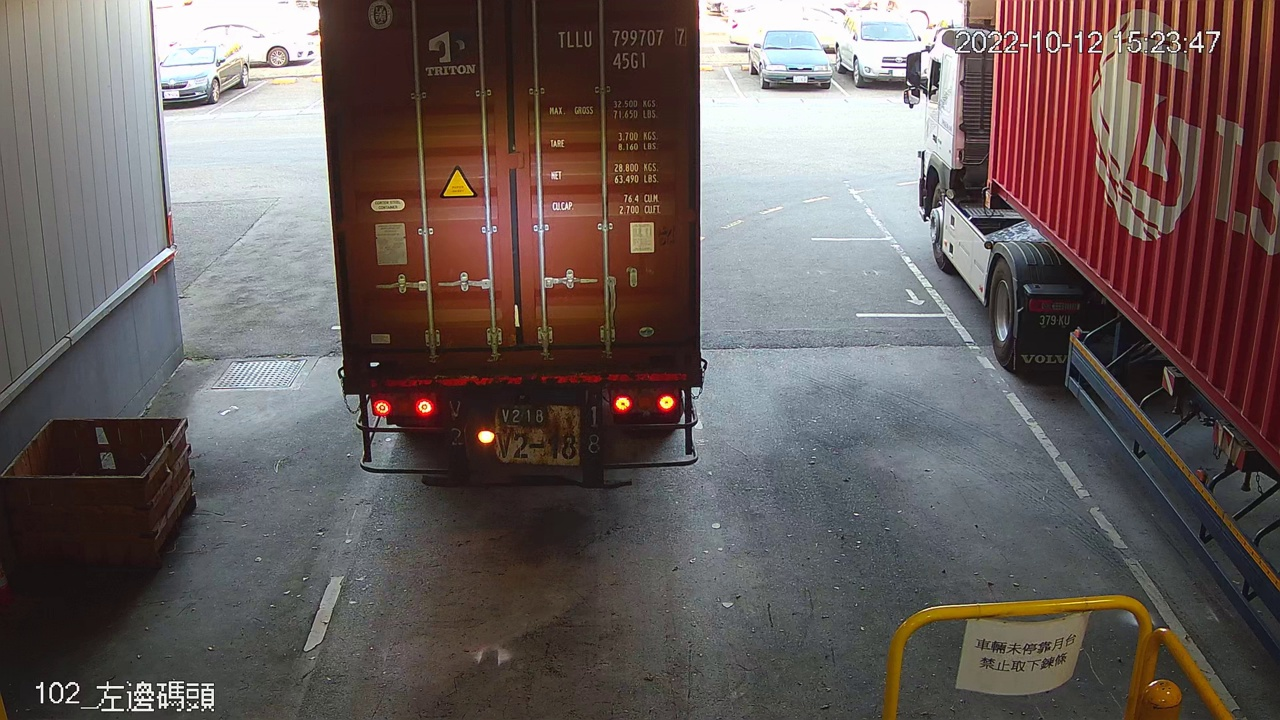container: (551, 20, 693, 78)
